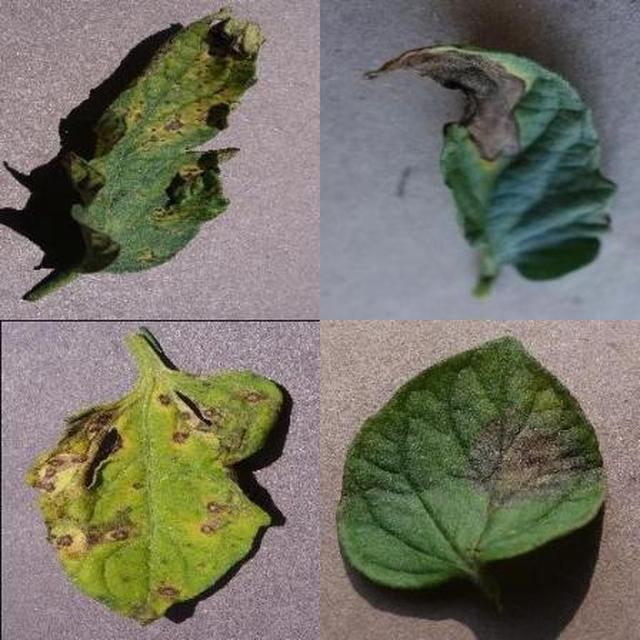Septoria Leaf: (218, 200, 640, 640)
